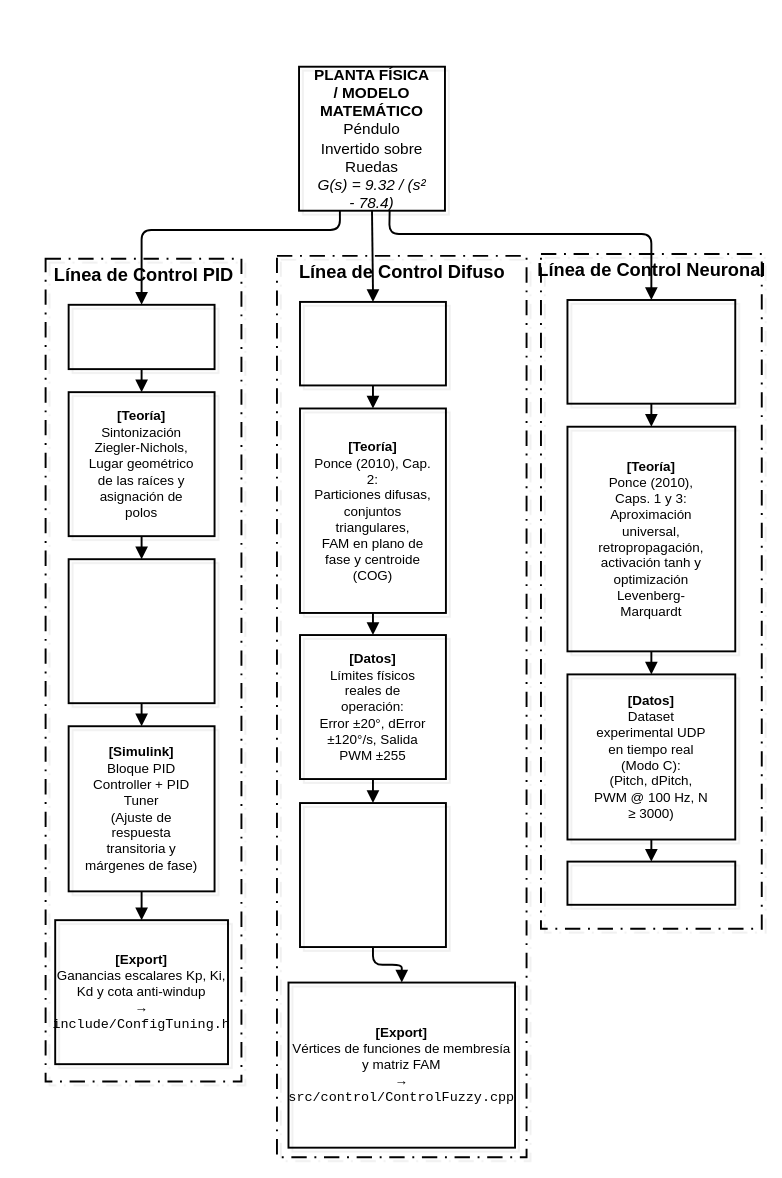
Some shapes in this 782 by 1178 pixel diagram are drawn without their labels. Each missing label, with the centre of its shape:
" [Simulink: (x=653, y=884)
1. CONTROL PID CLÁSICO: (x=143, y=338)
2. CONTROL DIFUSO (Mamdani / FLC): (x=374, y=345)
3. CONTROL RNA (Perceptrón Multicapa - MLP): (x=653, y=353)
[Datos] Parámetros electromecánicos del modelo: (M, m, l, Jp, Kt, Ke, Ra, r): (x=143, y=633)
[Simulink] Fuzzy Logic Designer (.fis) + Bloque Fuzzy Logic Controller (Mamdani): (x=374, y=876)
